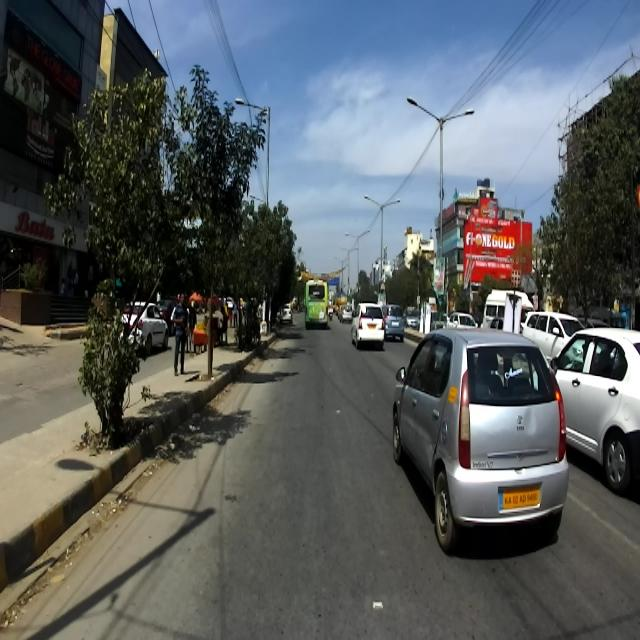Car_Maruti-Suzuki: (550, 327, 638, 493)
Car_TATA: (393, 325, 569, 553)
Car_Toyota: (521, 310, 584, 364), (350, 299, 386, 348)
bus: (304, 278, 327, 329)
